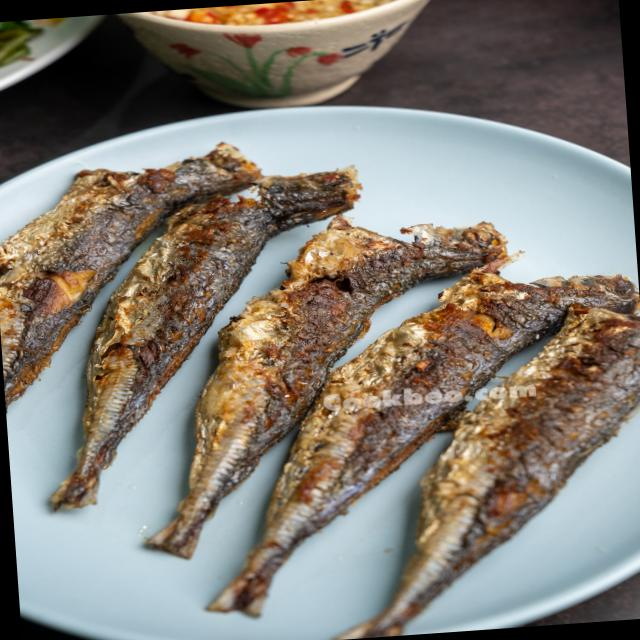ca chien: (207, 256, 637, 615), (146, 214, 504, 558), (51, 166, 360, 509), (334, 302, 640, 640), (0, 145, 260, 404)
